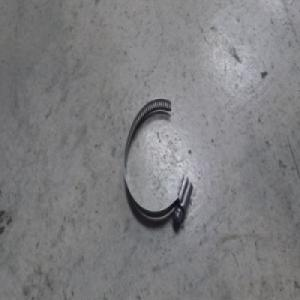AdjustableClamp: (123, 96, 193, 223)
